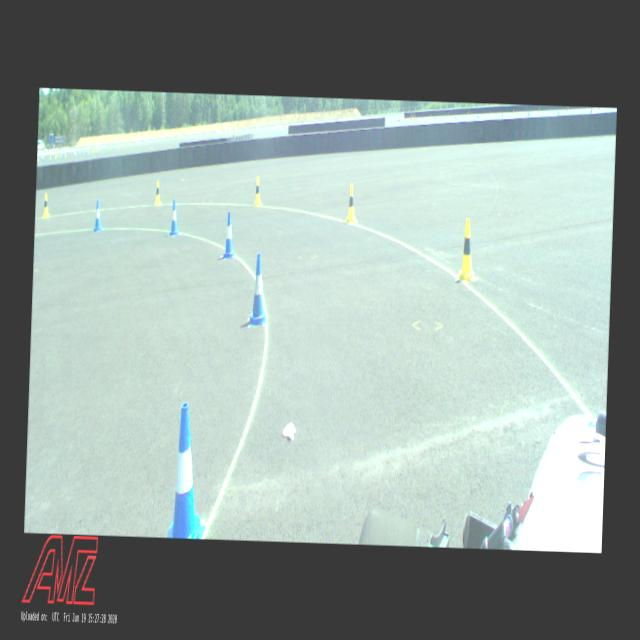blue_cone: (168, 402, 210, 538), (248, 252, 268, 324), (222, 212, 236, 257), (168, 200, 180, 236), (92, 200, 102, 232)
yellow_cone: (456, 218, 477, 279), (345, 184, 357, 220), (253, 177, 263, 206), (154, 180, 162, 204), (42, 193, 50, 217)
